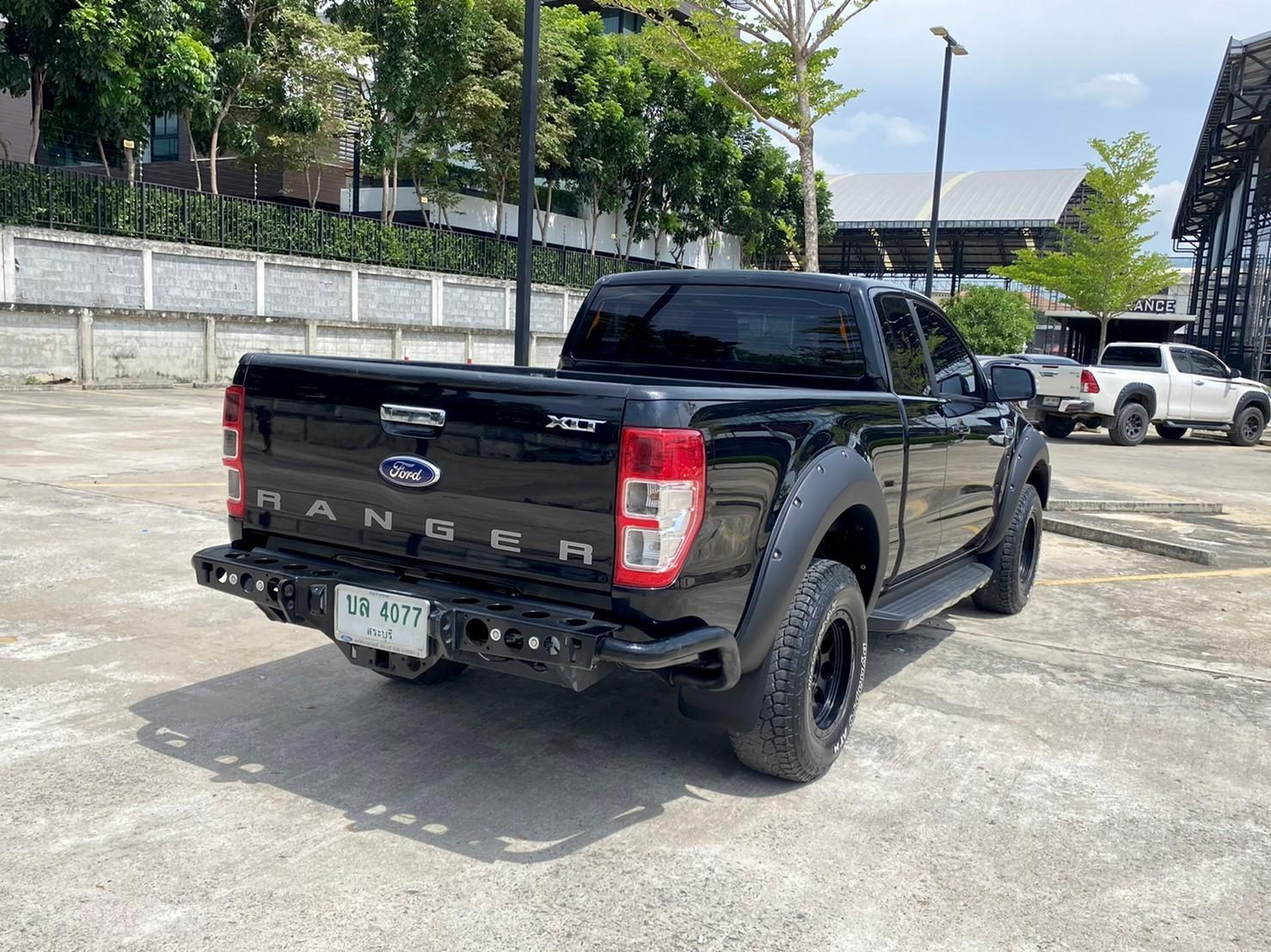license-plate: (329, 583, 430, 661)
